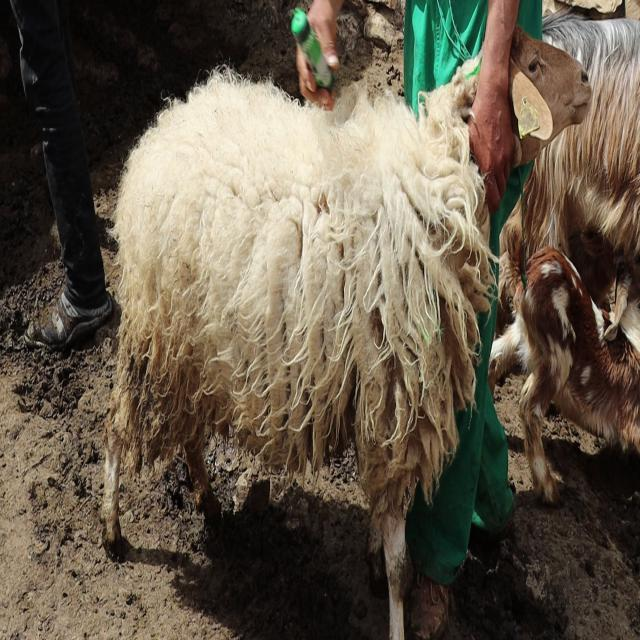Score_4: (102, 56, 498, 639)
